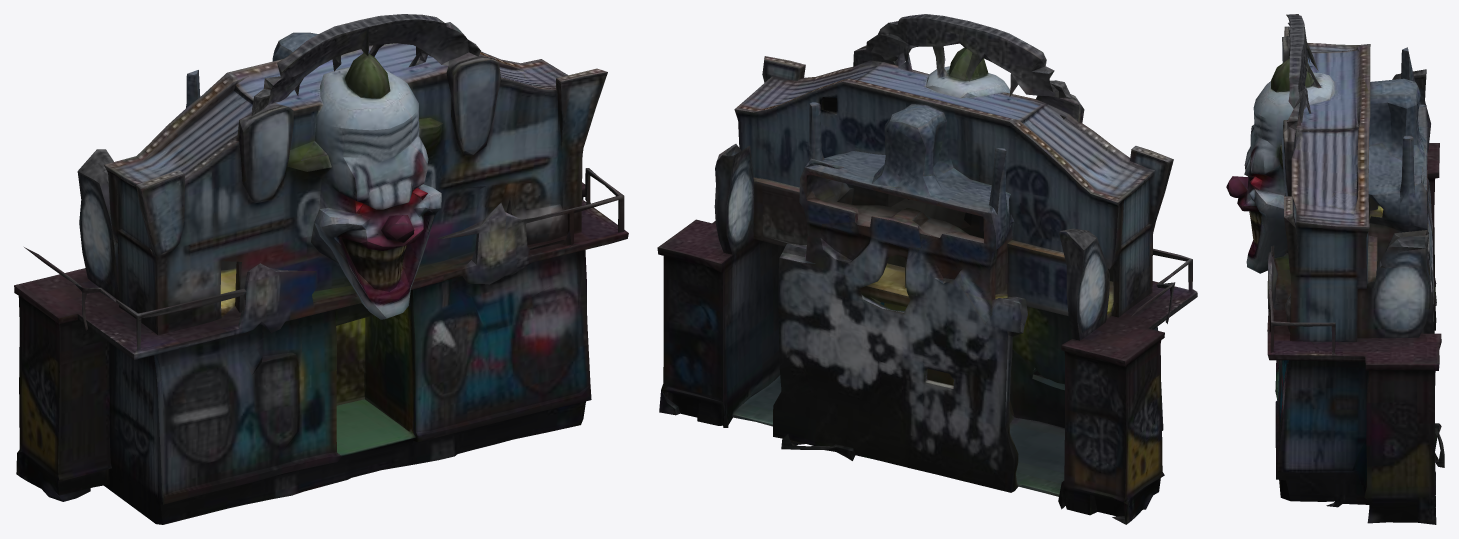
Rendered from funhouse2.glb.
The picture shows the model from 3 angles, left to right: view 1: azimuth 30°, elevation 25°; view 2: azimuth 150°, elevation 25°; view 3: azimuth 270°, elevation 25°; orthographic projection. The views are drawn at different scales.
Parts seen in each view (by area): view 1: mesh; view 2: mesh; view 3: mesh.
Part boxes in pixels (x1=…): mesh: x1=14, y1=14, x2=628, y2=524; mesh: x1=657, y1=14, x2=1197, y2=524; mesh: x1=1226, y1=14, x2=1444, y2=524.
Bounding box in the file's own units: 1 × 0.8091 × 0.4174.
1 material, 1 textured.
